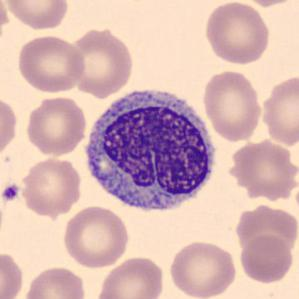Lymphocyte: (77, 80, 221, 221)
Platelets: (0, 182, 20, 203)
RBC: (68, 25, 136, 98), (200, 68, 264, 143), (60, 204, 131, 270), (202, 1, 272, 66), (14, 33, 87, 94), (167, 238, 239, 299), (23, 95, 89, 156), (19, 156, 83, 217), (232, 202, 298, 256), (94, 254, 166, 299), (258, 73, 299, 148), (237, 233, 296, 284), (22, 264, 88, 299), (2, 0, 70, 30), (0, 94, 19, 162), (0, 249, 26, 298), (236, 0, 299, 8), (0, 0, 10, 50)
